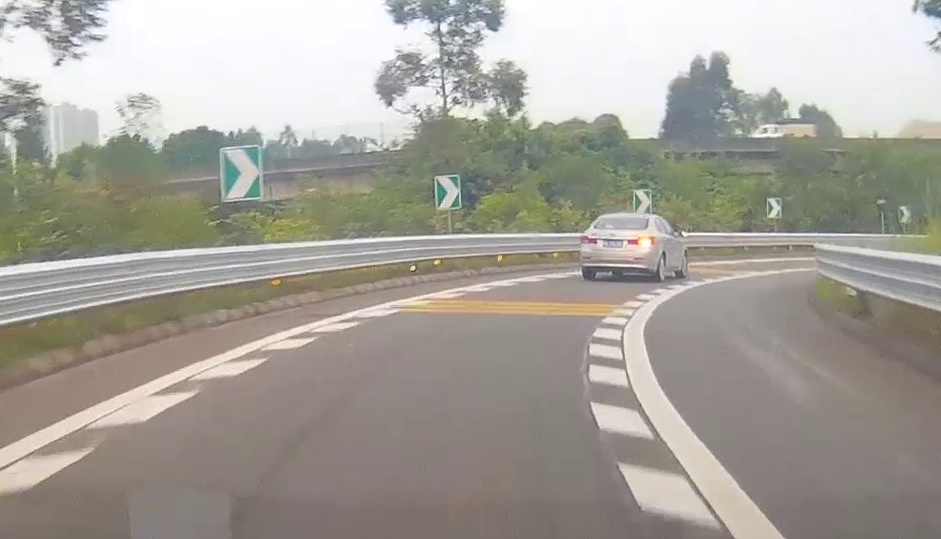L_light: (580, 235, 597, 245)
R_light: (627, 235, 656, 246)
T_light: (620, 217, 629, 220)
day-right: (579, 212, 659, 280)
